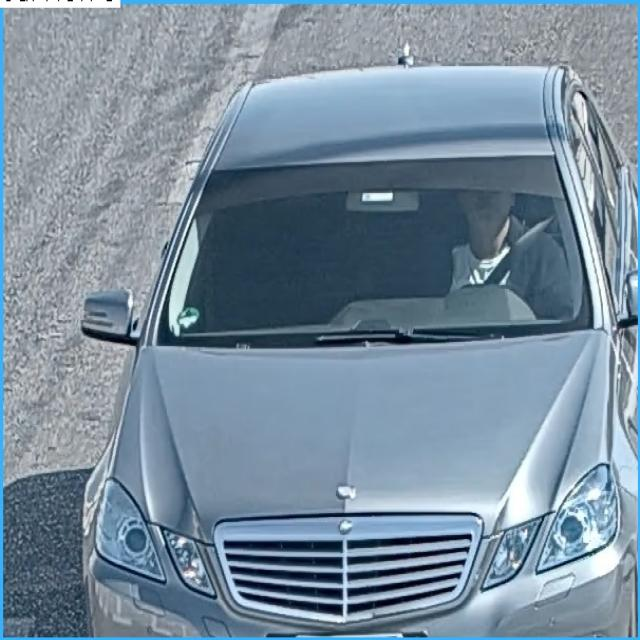windshield: (164, 174, 582, 329)
